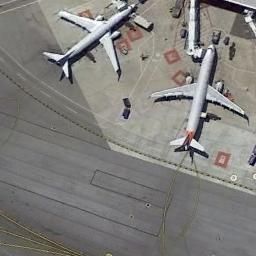Airplane: (150, 42, 247, 158), (41, 2, 141, 84)
